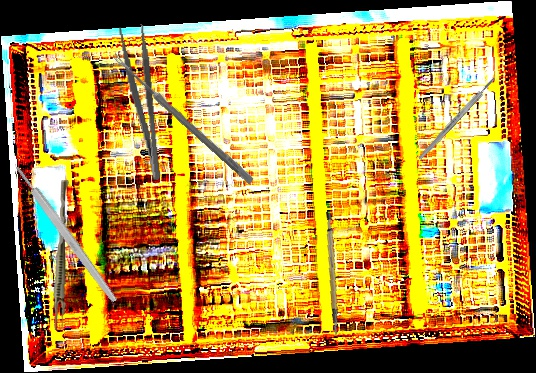Dressing Forceps: (117, 23, 165, 183)
Scalpel Handle: (13, 163, 119, 305), (416, 75, 498, 162), (313, 212, 349, 336)
Surgical Spoon: (110, 52, 255, 185)
Tissue Forceps: (52, 179, 70, 331)
